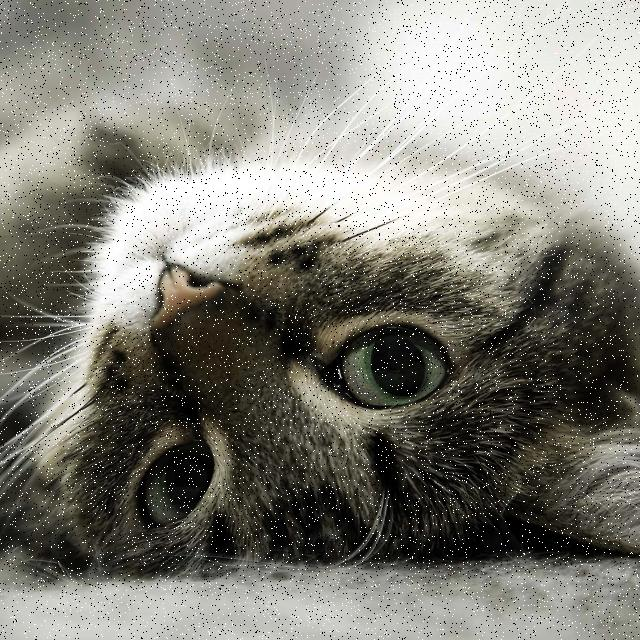Happy: (38, 196, 504, 569)
